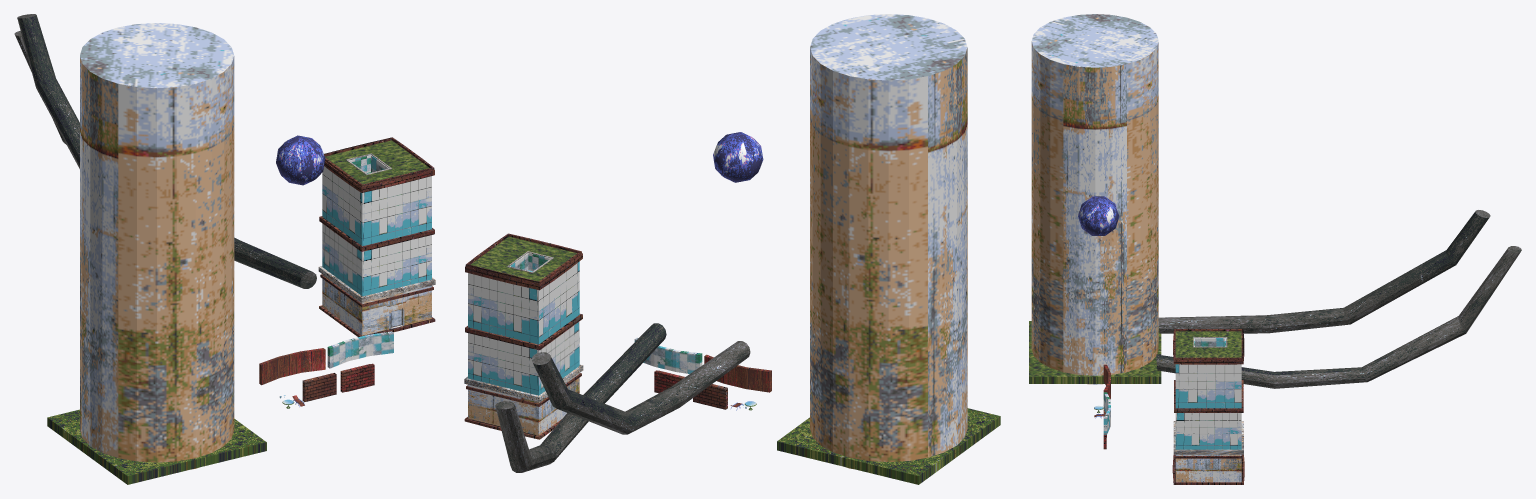
File: POOL.fbx
3 views of the same model, side by side, from view 1: azimuth 30°, elevation 25°; view 2: azimuth 150°, elevation 25°; view 3: azimuth 270°, elevation 25° (orthographic). The views are drawn at different scales.
Visible parts, largest first — view 1: Cylinder, Cube.006, Cube, Cylinder.004, Cylinder.005, Icosphere, Cube.003, Cube.004, Cube.002, Cube.001; view 2: Cylinder, Cube.006, Cylinder.004, Cylinder.005, Cube, Icosphere, Cube.004, Cube.003, Cube.001; view 3: Cylinder, Cube.006, Cylinder.004, Cylinder.005, Cube, Icosphere.
Part boxes in pixels (left/top/right/bottom): Cylinder: left=80, top=23, right=234, bottom=469; Cube.006: left=318, top=137, right=435, bottom=337; Cube: left=47, top=409, right=266, bottom=484; Cylinder.004: left=17, top=14, right=79, bottom=168; Cylinder.005: left=14, top=30, right=316, bottom=288; Icosphere: left=276, top=135, right=325, bottom=185; Cube.003: left=259, top=348, right=325, bottom=385; Cube.004: left=327, top=331, right=393, bottom=368; Cube.002: left=340, top=363, right=374, bottom=392; Cube.001: left=302, top=373, right=336, bottom=402; Cylinder: left=810, top=14, right=967, bottom=469; Cube.006: left=464, top=233, right=583, bottom=439; Cylinder.004: left=531, top=341, right=750, bottom=434; Cylinder.005: left=495, top=323, right=666, bottom=472; Cube: left=777, top=408, right=1000, bottom=484; Icosphere: left=713, top=132, right=763, bottom=182; Cube.004: left=634, top=337, right=702, bottom=373; Cube.003: left=704, top=354, right=771, bottom=392; Cube.001: left=693, top=384, right=727, bottom=409; Cylinder: left=1031, top=14, right=1158, bottom=384; Cube.006: left=1172, top=329, right=1244, bottom=484; Cylinder.004: left=1158, top=210, right=1490, bottom=333; Cylinder.005: left=1156, top=246, right=1521, bottom=388; Cube: left=1029, top=321, right=1161, bottom=383; Icosphere: left=1078, top=196, right=1119, bottom=235.
Bounding box in the file's own units: 27996 × 26183 × 36649.
12 materials, 12 textured.
